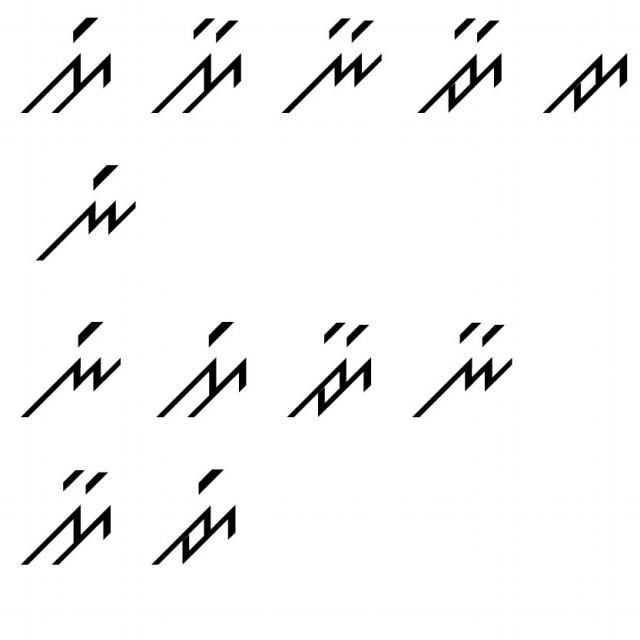ja: (535, 40, 631, 127)
jan: (285, 313, 387, 423), (408, 13, 508, 119)
jang: (153, 464, 248, 572)
nyan: (405, 315, 520, 423), (278, 17, 390, 112)
nyang: (25, 153, 142, 270), (16, 314, 131, 425)
san: (143, 15, 251, 126), (20, 464, 116, 573)
sang: (19, 13, 122, 128), (149, 314, 252, 419)
